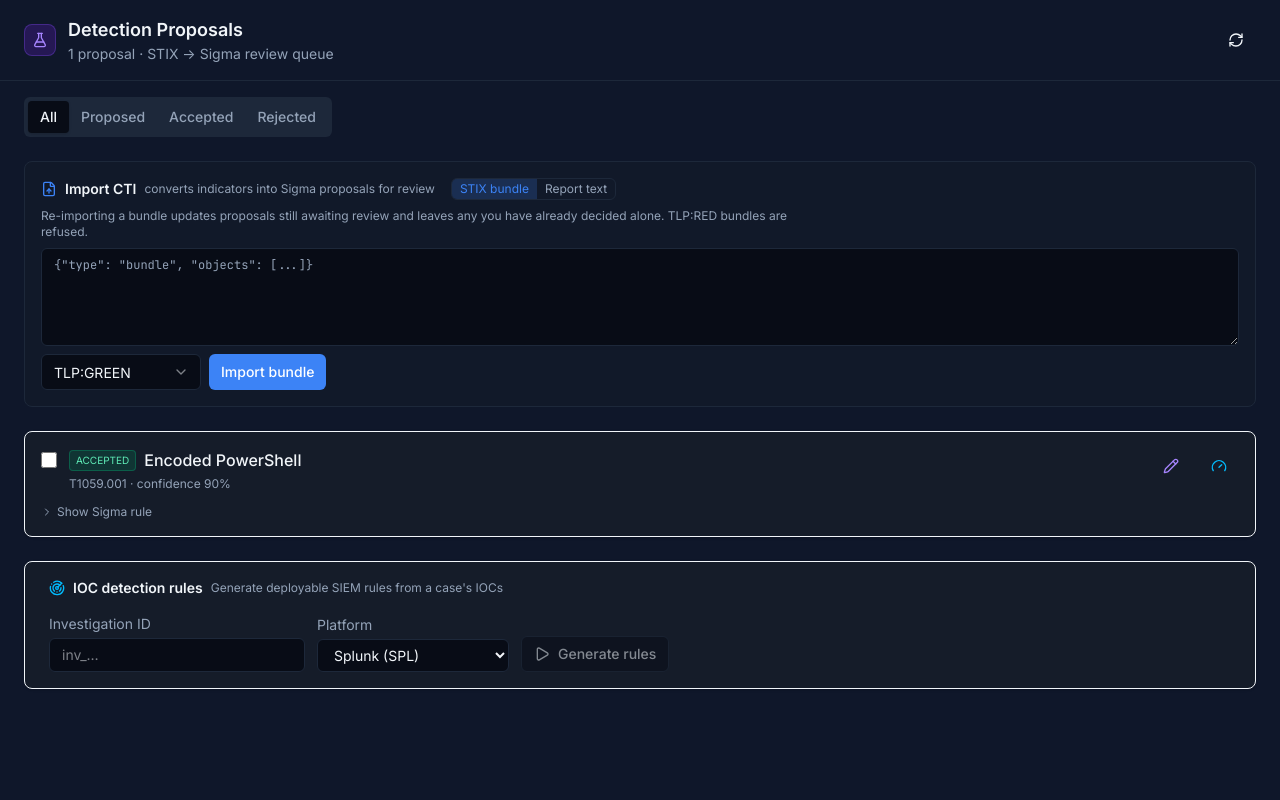
Test: DetectionProposalsPage › surfaces an error when composing the PR fails
Click the checkbox with test id "proposal-select-prop_ACC" at x=49, y=460, box 41,452 -> 57,468
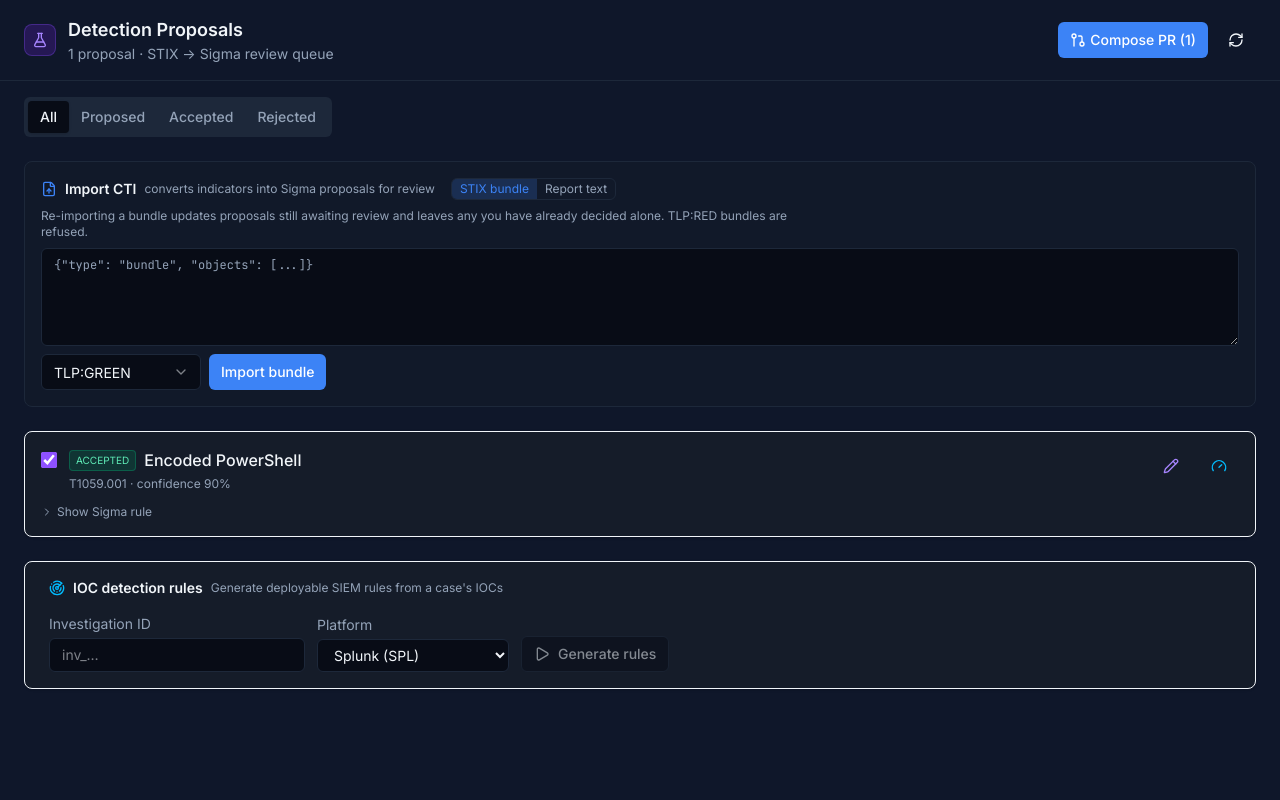
Click the button with test id "compose-pr-button" at x=1133, y=40, box 1058,22 -> 1208,58
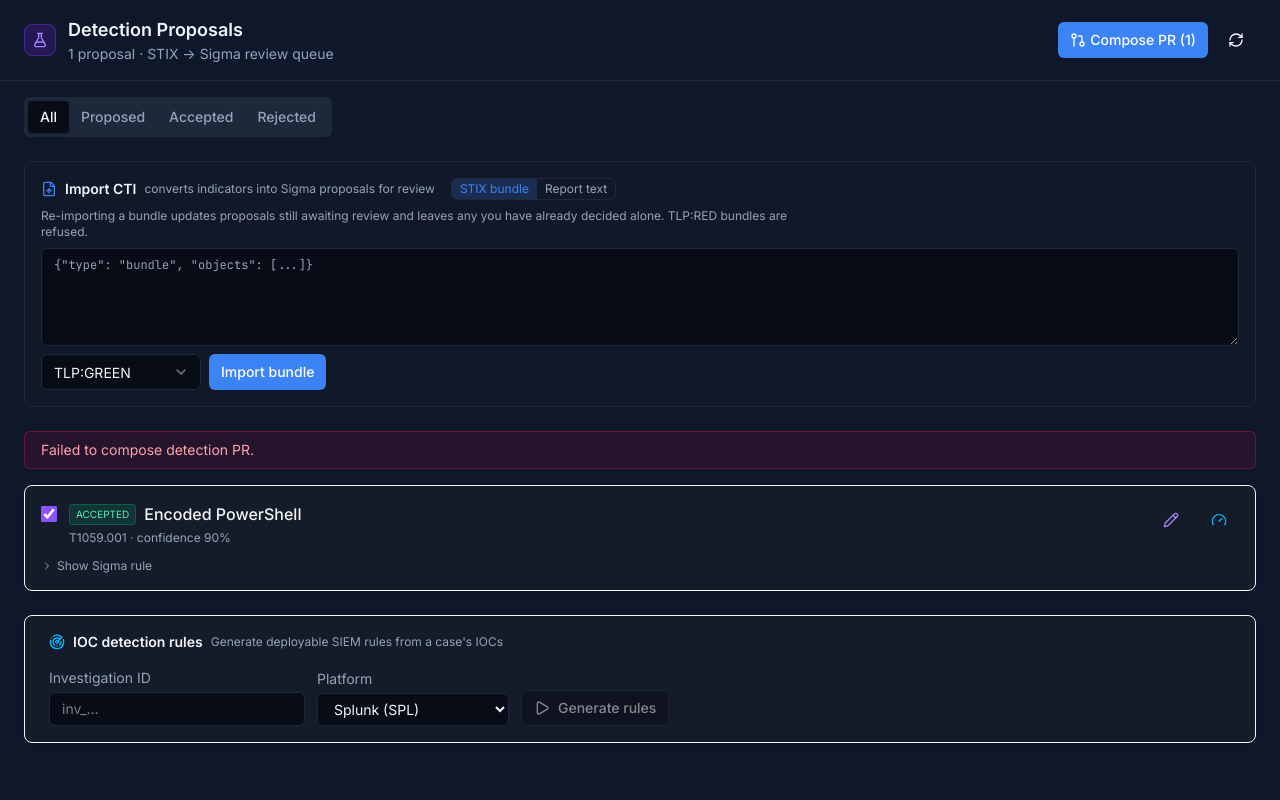
Expected: the text "Failed to compose detection PR." is shown, 24,431 -> 1256,469
